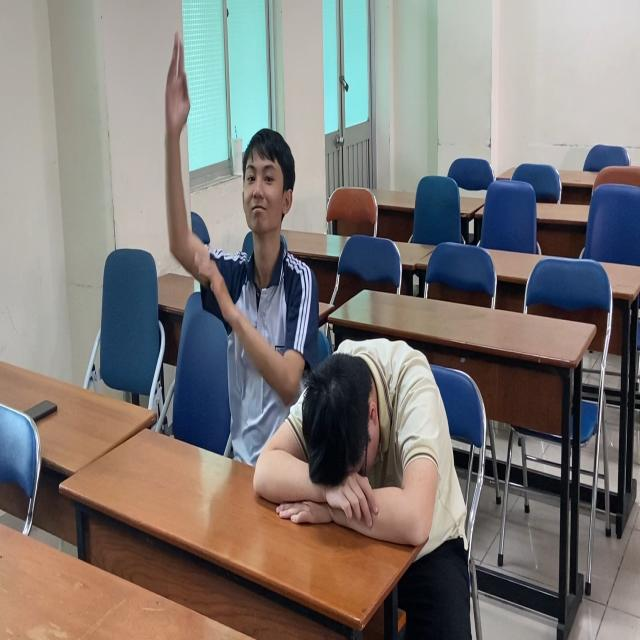raise_hand: (156, 41, 302, 467)
sleep: (252, 336, 470, 557)
